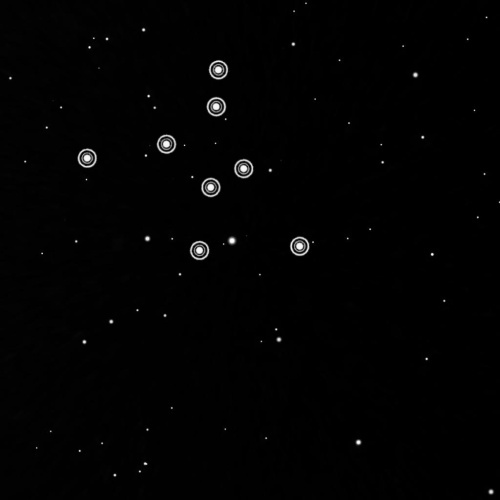hercules: (71, 55, 318, 264)
